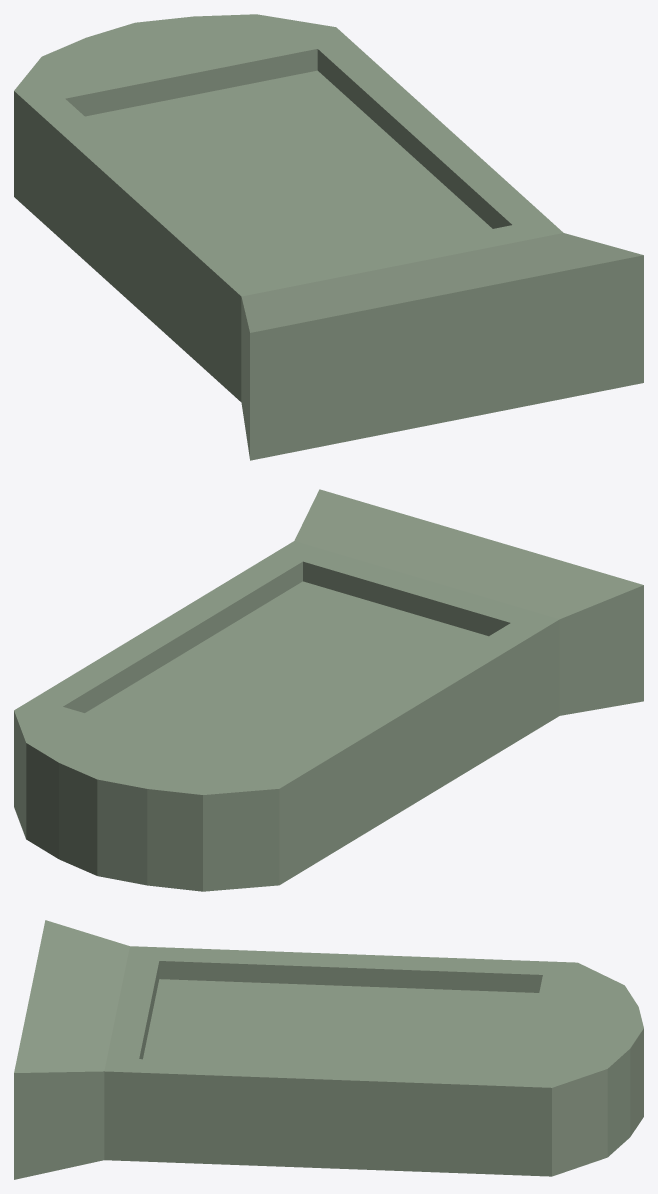
The model's file is gravestone2.glb.
3 views of the same model, one above another, from view 1: azimuth 30°, elevation 25°; view 2: azimuth 150°, elevation 25°; view 3: azimuth 270°, elevation 25° (orthographic). The views are drawn at different scales.
Parts seen in each view (by area): view 1: Gravestone.111; view 2: Gravestone.111; view 3: Gravestone.111.
Boxes of the visible parts, x1,y1,x2,y2 form: Gravestone.111: (14, 14, 643, 460); Gravestone.111: (14, 489, 643, 891); Gravestone.111: (14, 920, 643, 1179).
Size of the model in its own units: 0.1166 by 0.0366 by 0.1954.
